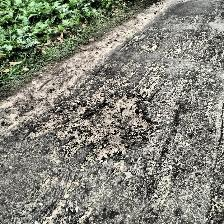pothole: (76, 92, 154, 156)
